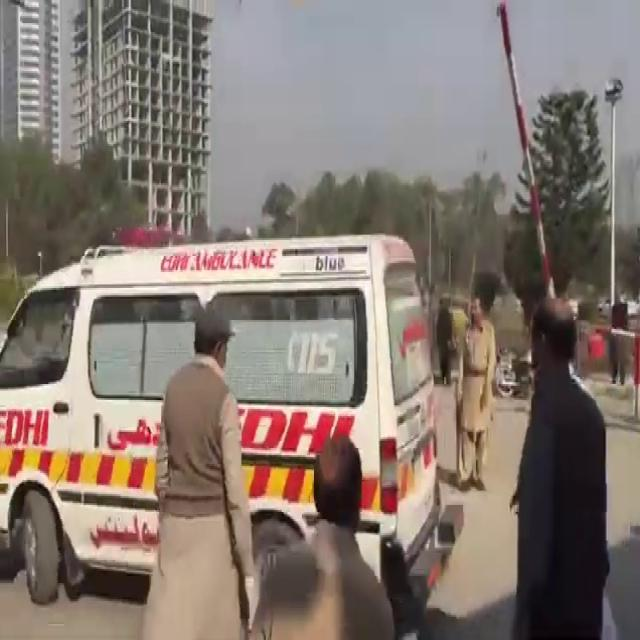ambulance: (9, 244, 430, 605)
